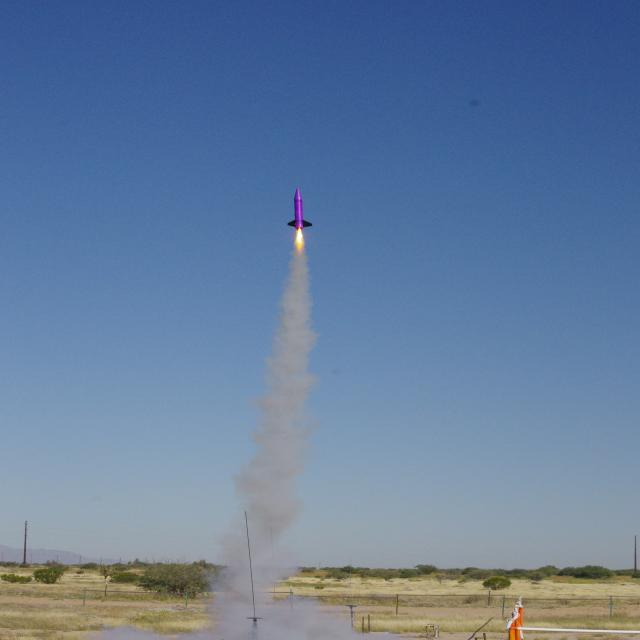Rocket: (287, 188, 313, 230)
